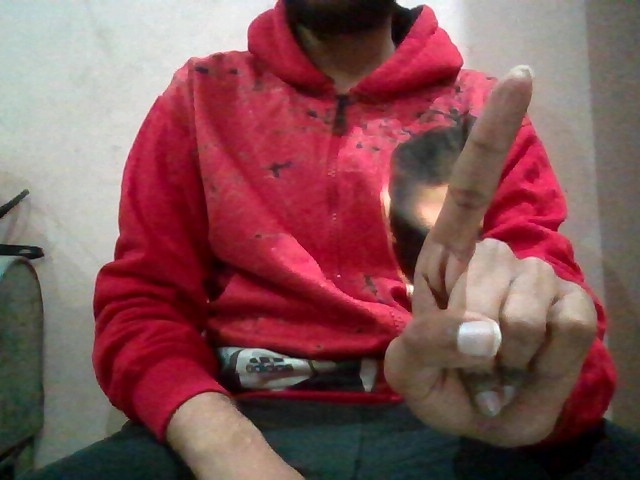D: (377, 58, 607, 457)
